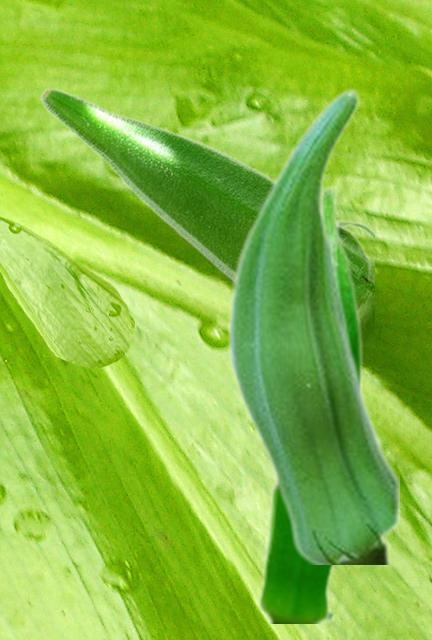okra: (39, 87, 373, 345), (226, 85, 398, 563), (257, 183, 364, 622)
